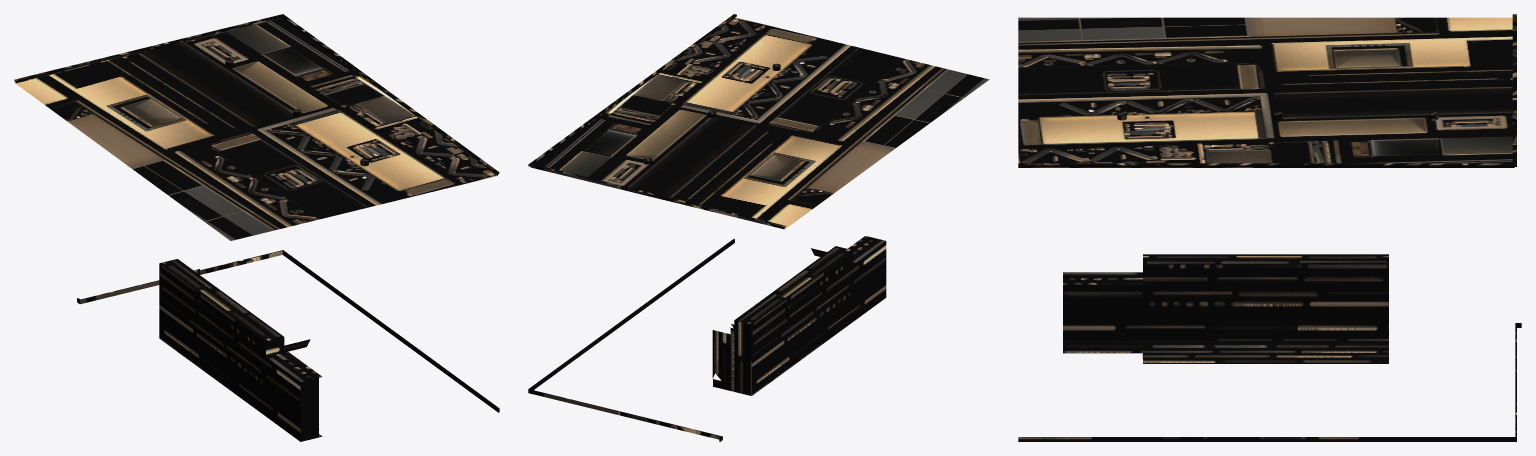
File: simple_house_-_kitchen_5.obj
3 views of the same model, side by side, from view 1: azimuth 30°, elevation 25°; view 2: azimuth 150°, elevation 25°; view 3: azimuth 270°, elevation 25° (orthographic). The views are drawn at different scales.
Size of the model in its own units: 3.44 by 2.95 by 4.85.
